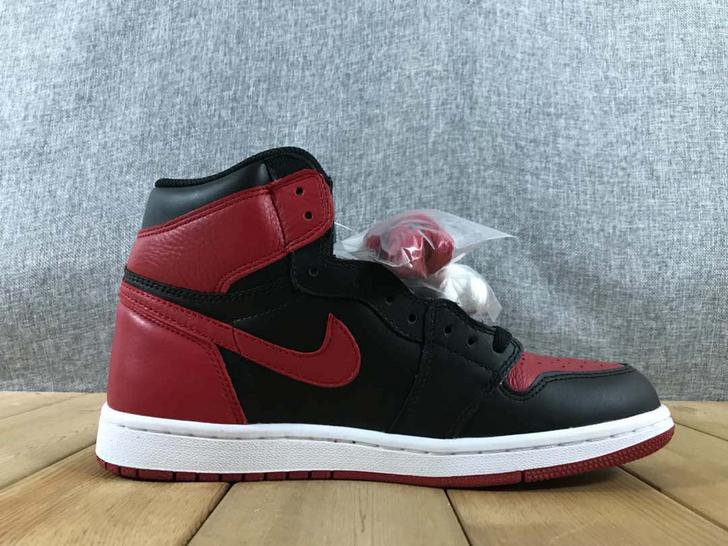Air Jordan 1 Bred: (87, 144, 686, 495)
